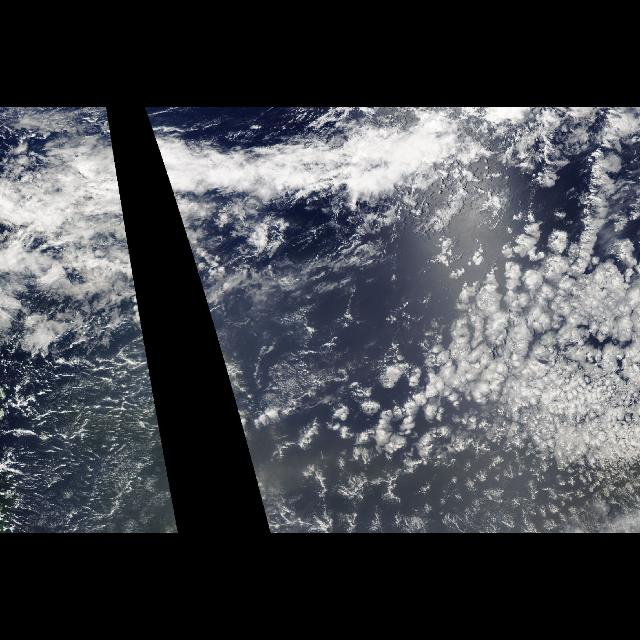Fish: (145, 113, 482, 209), (92, 113, 124, 209)
Gravel: (298, 424, 632, 530), (13, 348, 164, 532)
Sugar: (1, 332, 179, 532)
